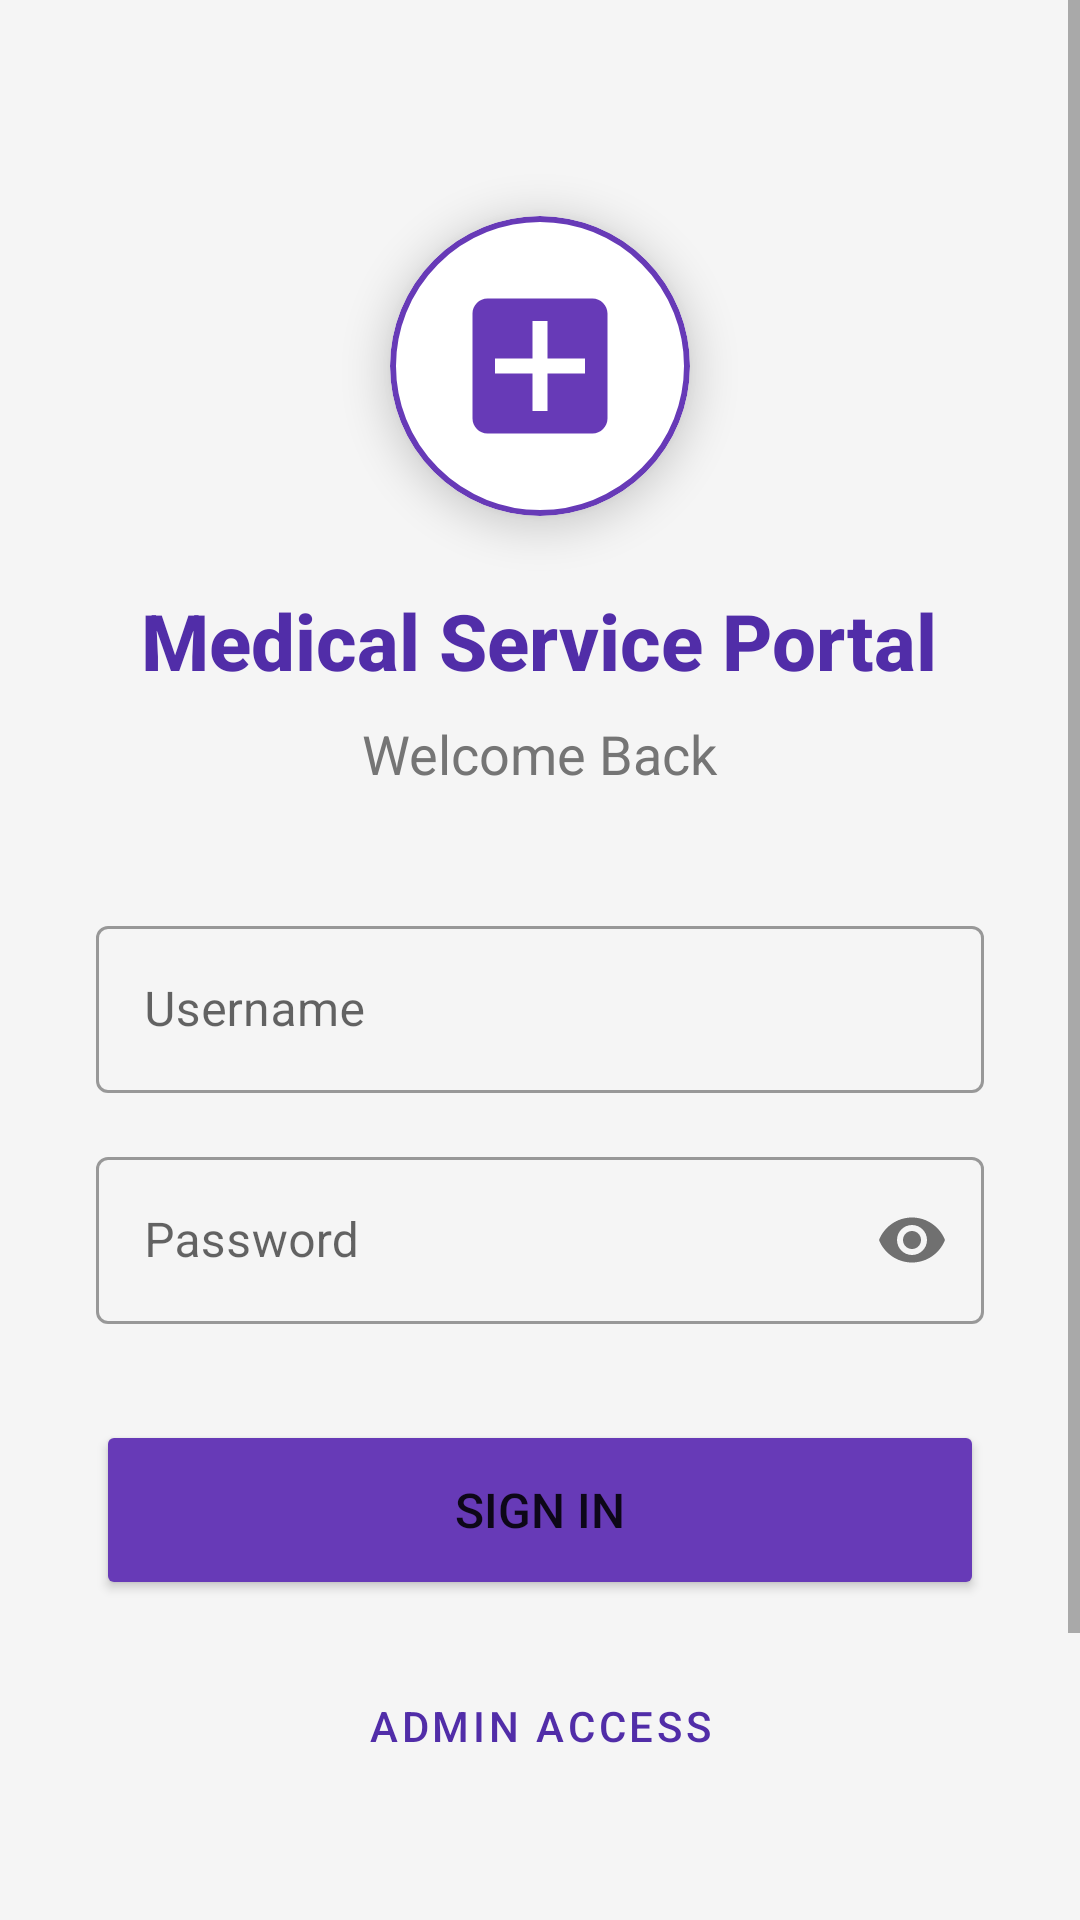

Screen size 1080*1920. Icon name, then its box in pixels as (x1, y1, x2, y2):
hospital: (390, 216, 690, 516)
